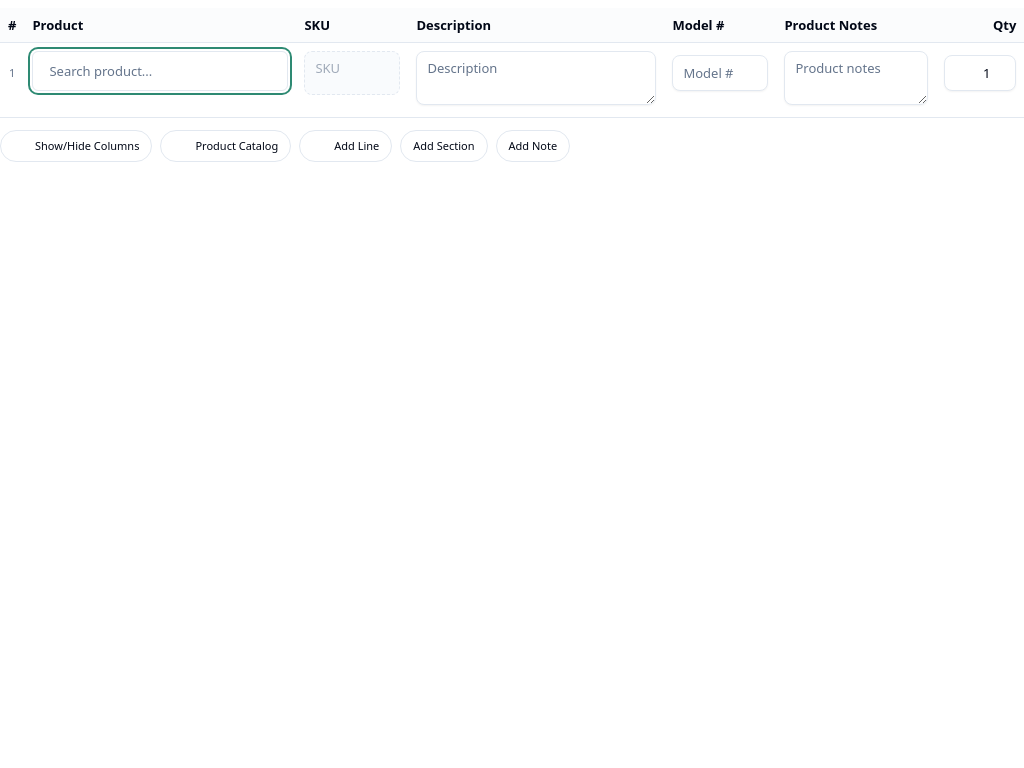
Test: #319 keyboard-first sales line grid › a partial SKU that is a prefix of another is not auto-selected
Press Y in the dropdown labelled "Search product...", box [32,51,288,91]
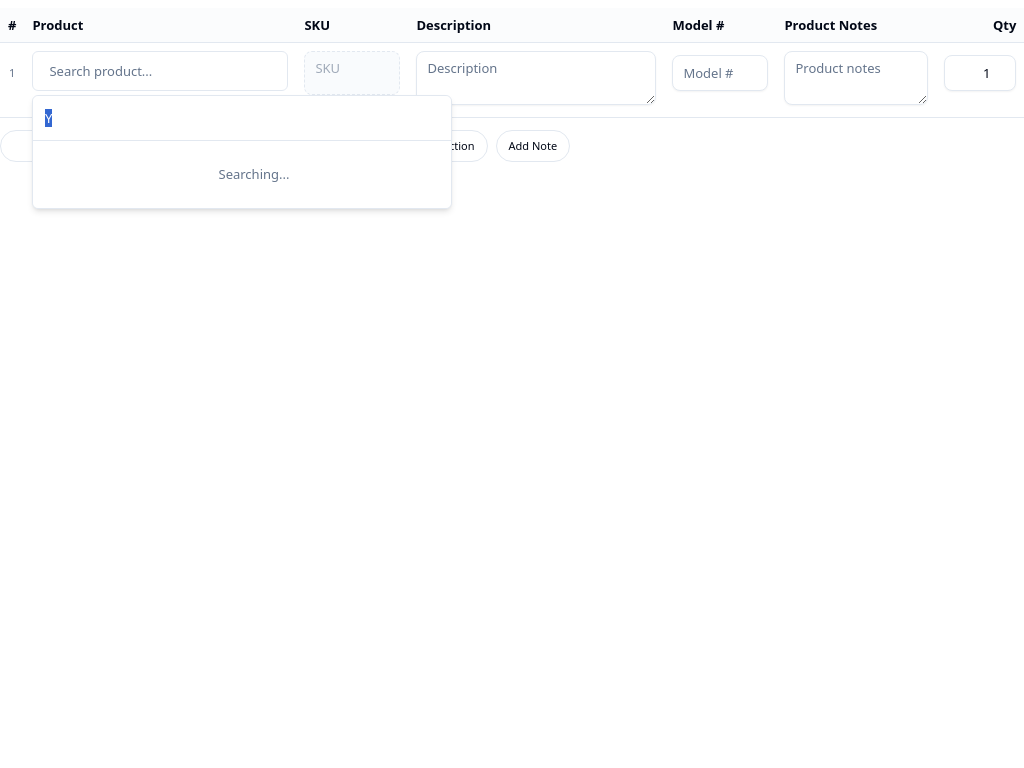
Replace the text in the dropdown with placeholder "Search name, SKU, barcode, lot or serial..." with "YRN-1". click: coordinates (242, 118)
box: [45,96,439,140]
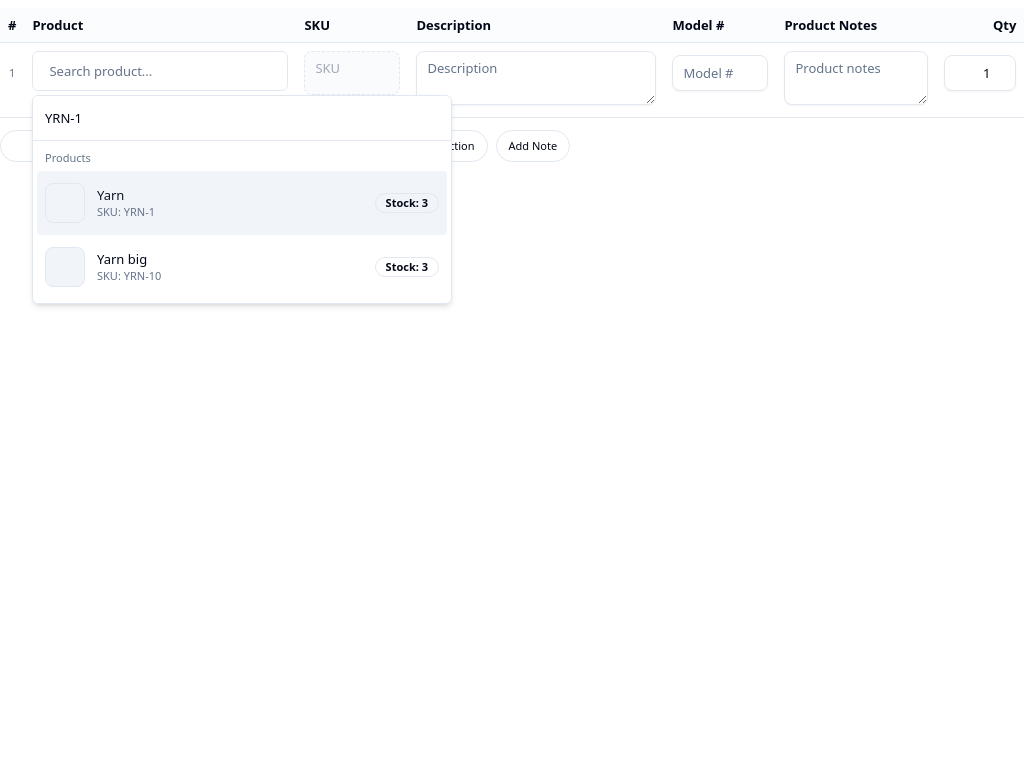
Expected: the text "Yarn big" is shown, [97,250,147,268]
